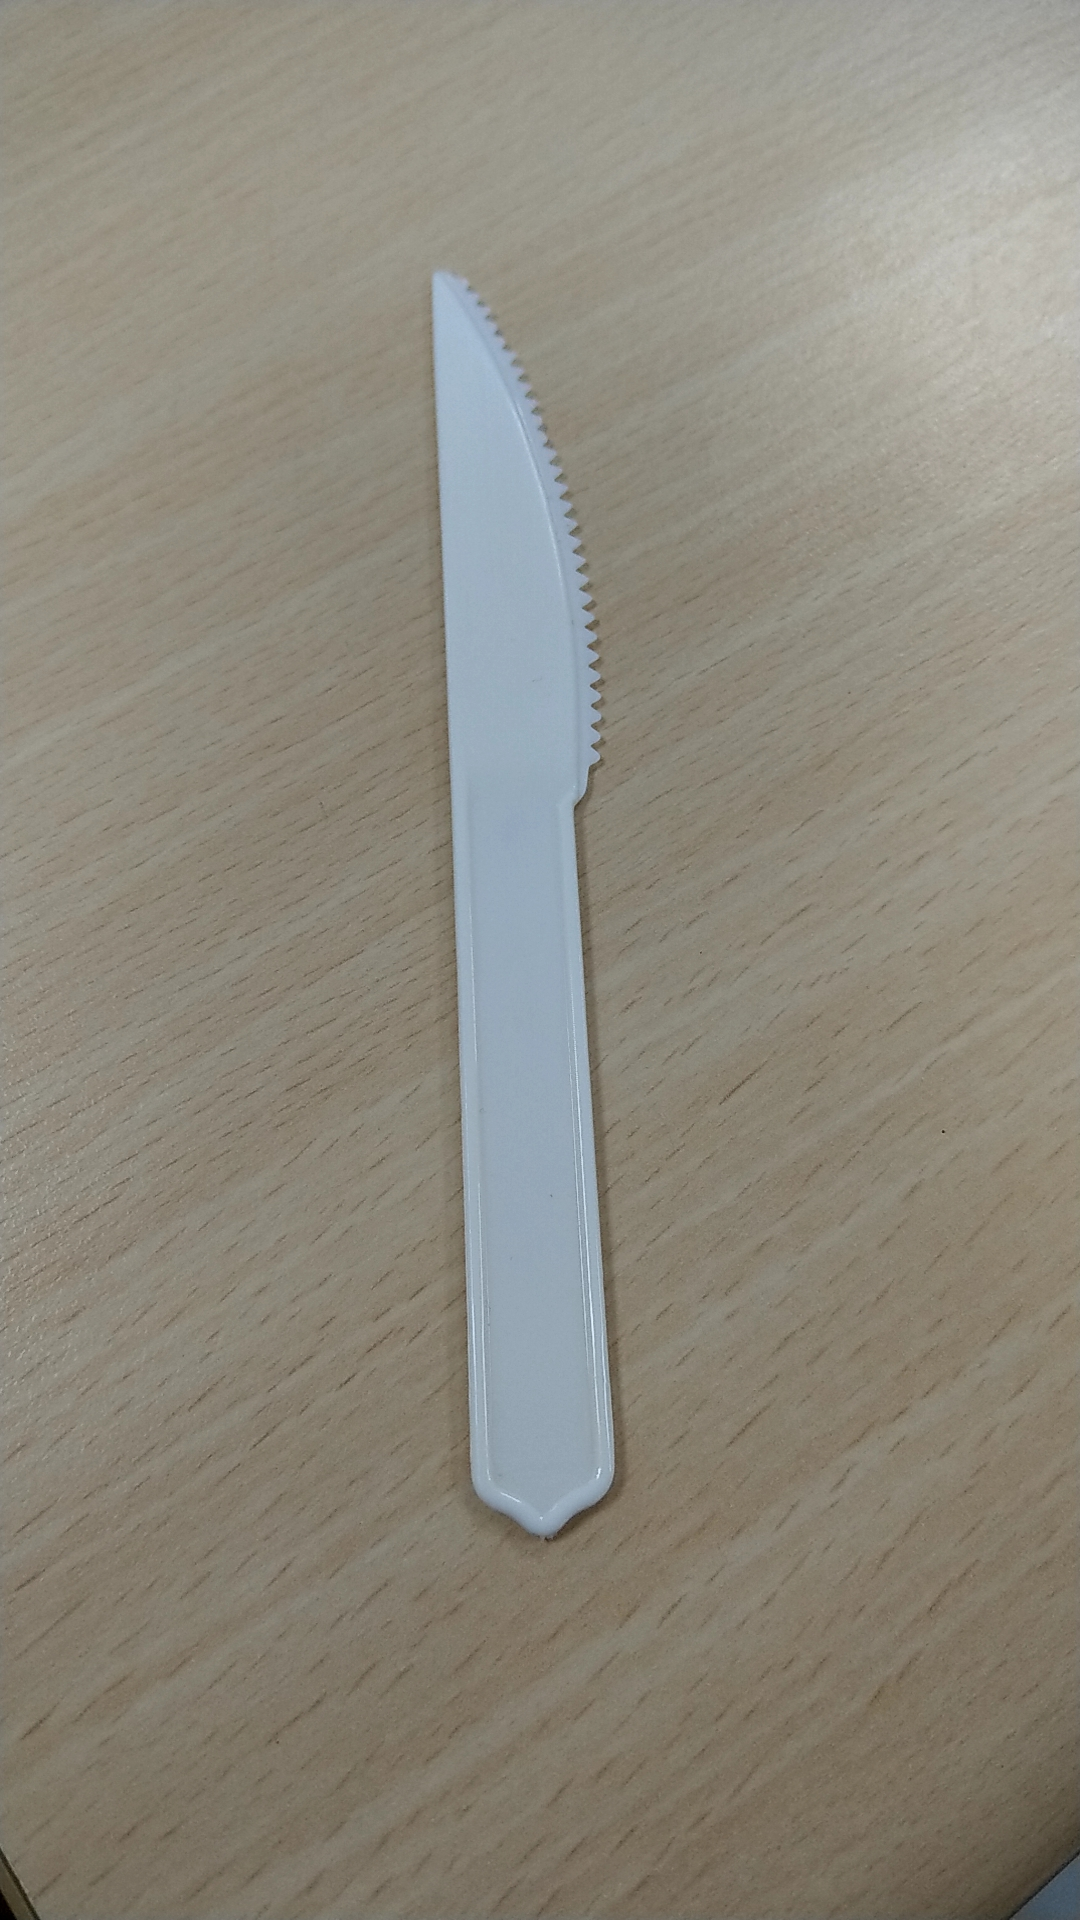knife: (398, 257, 673, 1568)
